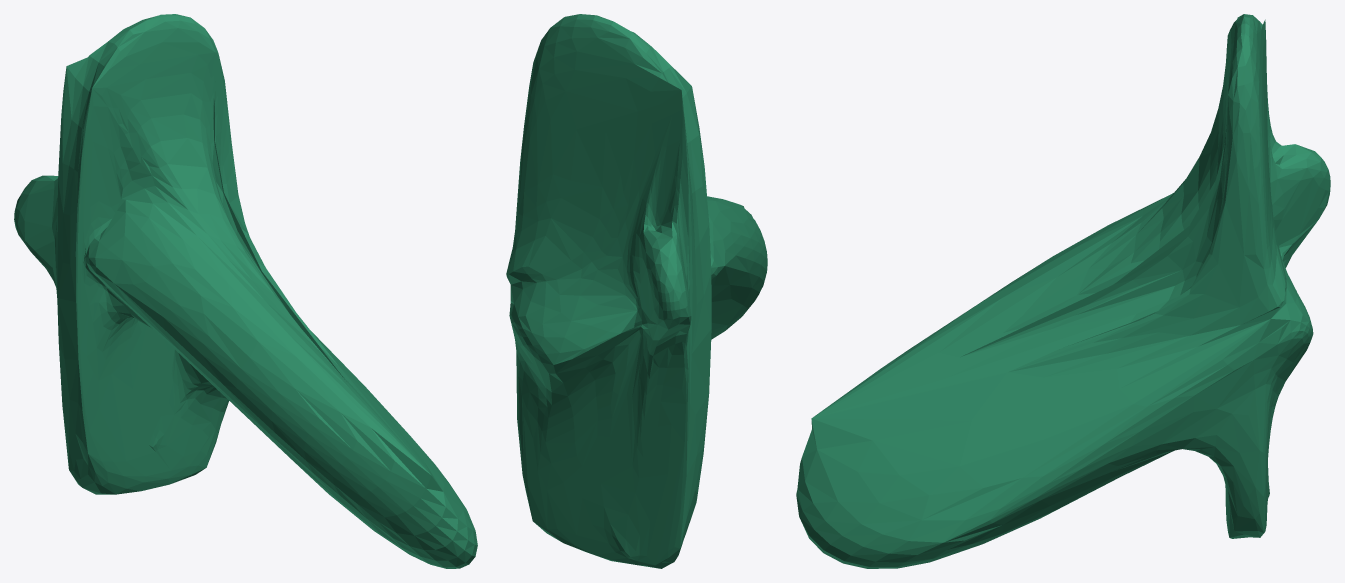
3 views of the same model, side by side, from view 1: azimuth 30°, elevation 25°; view 2: azimuth 150°, elevation 25°; view 3: azimuth 270°, elevation 25° (orthographic). The views are drawn at different scales.
Visible parts, largest first — view 1: 800_Cube.3224; view 2: 800_Cube.3224; view 3: 800_Cube.3224.
Boxes of the visible parts, x1=… form: 800_Cube.3224: x1=14, y1=14, x2=477, y2=568; 800_Cube.3224: x1=506, y1=14, x2=767, y2=568; 800_Cube.3224: x1=796, y1=14, x2=1330, y2=568.
Size of the model in its own units: 6.77 by 11.6 by 11.12.
